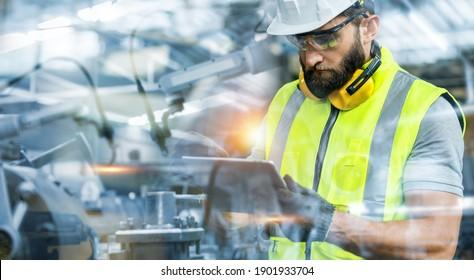gloves: (277, 175, 335, 241)
